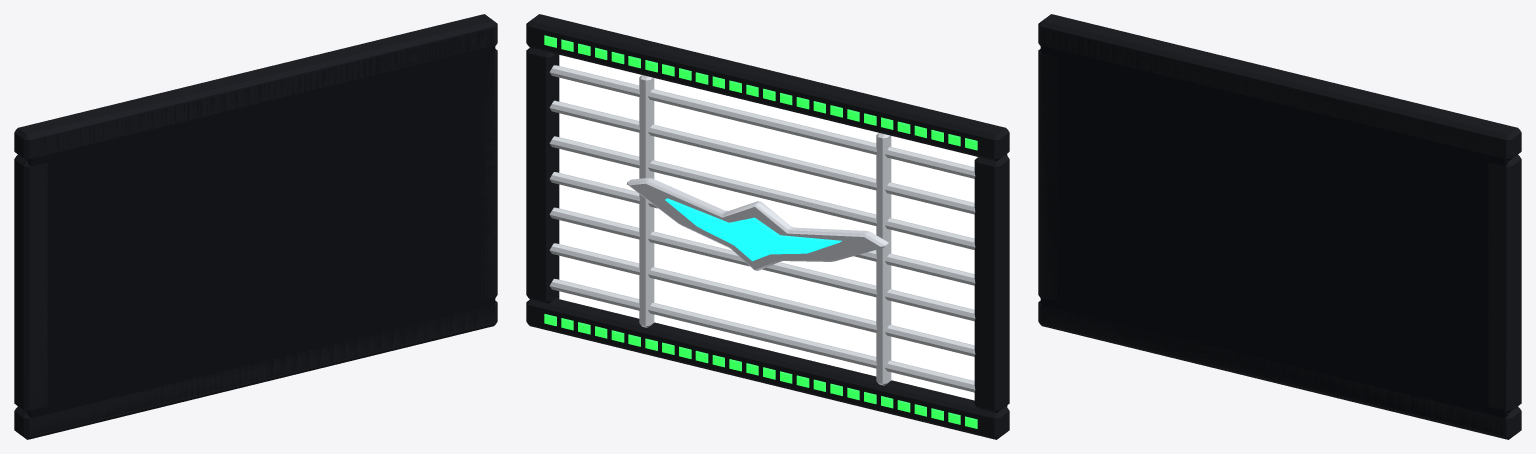
The model's file is grille_bars_led.glb.
3 renders of one model, left to right at view 1: azimuth 30°, elevation 25°; view 2: azimuth 150°, elevation 25°; view 3: azimuth 330°, elevation 25°, orthographic.
Visible parts, largest first — view 1: grille_bars_led_deco_trim, grille_bars_led_deco_body; view 2: grille_bars_led_acrylic_art, grille_bars_led_deco_body, grille_bars_led_chrome, grille_bars_led_deco_led, grille_bars_led_CEN_chrome, grille_bars_led_CEN_deco_neon; view 3: grille_bars_led_deco_trim, grille_bars_led_deco_body.
Part boxes in pixels (<box>): grille_bars_led_deco_trim: <box>28,28,495,435</box>; grille_bars_led_deco_body: <box>14,14,497,439</box>; grille_bars_led_acrylic_art: <box>559,55,977,400</box>; grille_bars_led_deco_body: <box>526,14,1009,439</box>; grille_bars_led_chrome: <box>549,65,975,392</box>; grille_bars_led_deco_led: <box>544,35,977,428</box>; grille_bars_led_CEN_chrome: <box>627,178,888,270</box>; grille_bars_led_CEN_deco_neon: <box>665,198,841,261</box>; grille_bars_led_deco_trim: <box>1040,28,1507,435</box>; grille_bars_led_deco_body: <box>1038,14,1521,439</box>.
Bounding box in the file's own units: 1.3 × 0.8 × 0.107.
